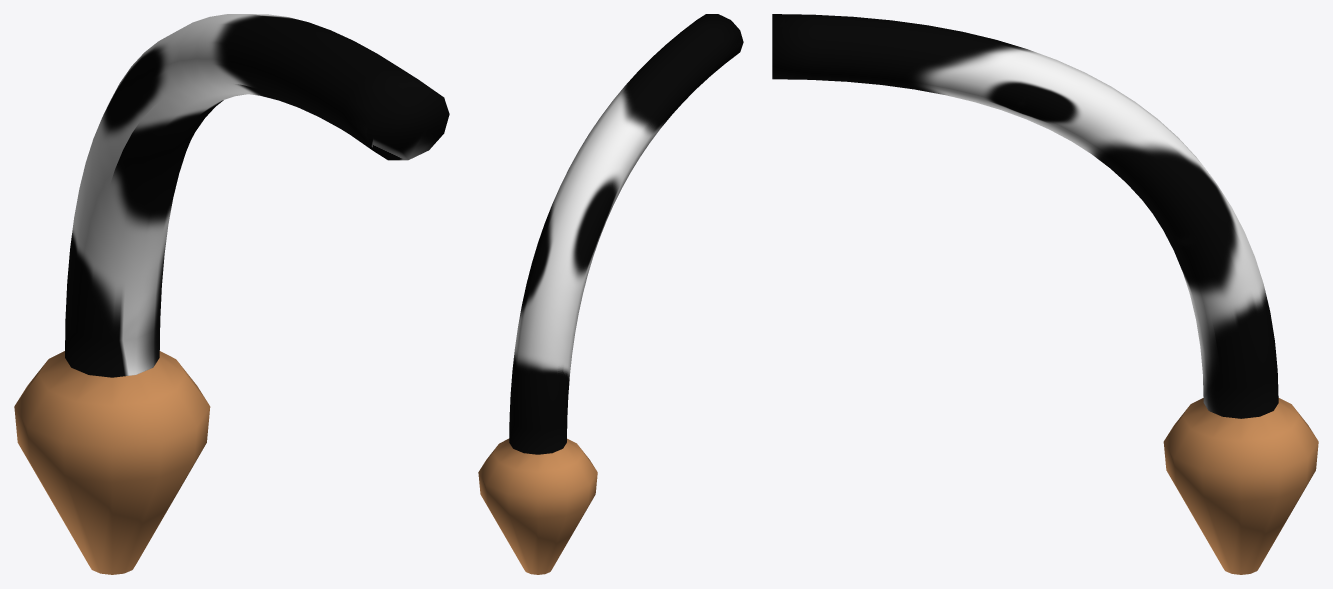
Rendered from cow_tail.glb.
3 views of the same model, side by side, from view 1: azimuth 30°, elevation 25°; view 2: azimuth 150°, elevation 25°; view 3: azimuth 270°, elevation 25° (orthographic). The views are drawn at different scales.
Visible parts, largest first — view 1: Cola; view 2: Cola; view 3: Cola.
Boxes of the visible parts, box(x1,y1,x2,y2) form: Cola: box(14, 14, 449, 574); Cola: box(478, 14, 743, 574); Cola: box(772, 14, 1318, 574).
Size of the model in its own units: 0.2372 by 0.9265 by 0.8358.
2 materials, 1 textured.
